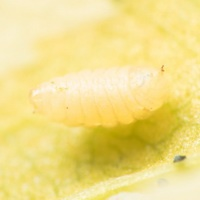insect: (31, 66, 170, 126), (173, 155, 185, 161), (161, 65, 163, 71)
